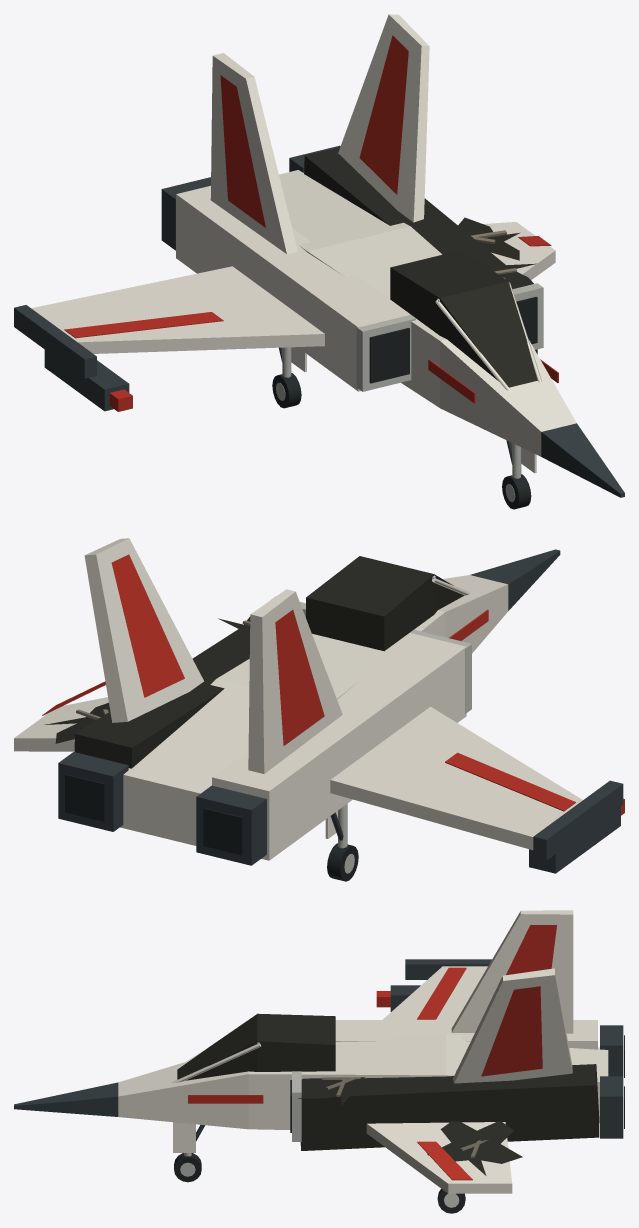
The picture shows the model from 3 angles, top to bottom: view 1: azimuth 30°, elevation 25°; view 2: azimuth 150°, elevation 25°; view 3: azimuth 270°, elevation 25°; orthographic projection. The views are drawn at different scales.
Parts seen in each view (by area): view 1: jet-b-damaged-fleet-armor, jet-b-damaged-fleet-damage-charred, jet-b-damaged-fleet-red, jet-b-damaged-fleet-machine, jet-b-damaged-fleet-rubber, jet-b-damaged-fleet-edge, gear-wheel-nose-0-0-fleet-rubber, gear-wheel-left-0-0-fleet-rubber; view 2: jet-b-damaged-fleet-armor, jet-b-damaged-fleet-damage-charred, jet-b-damaged-fleet-machine, jet-b-damaged-fleet-red, jet-b-damaged-fleet-rubber, gear-wheel-left-0-0-fleet-rubber, jet-b-damaged-fleet-edge; view 3: jet-b-damaged-fleet-armor, jet-b-damaged-fleet-damage-charred, jet-b-damaged-fleet-red, jet-b-damaged-fleet-machine, jet-b-damaged-fleet-edge, landing-gear-nose-fleet-armor, gear-wheel-nose-0-0-fleet-rubber, jet-b-damaged-fleet-damage-metal.
Part boxes in pixels (x1,y1,x2,y2): jet-b-damaged-fleet-armor: (31, 14, 576, 456); jet-b-damaged-fleet-damage-charred: (304, 147, 537, 387); jet-b-damaged-fleet-red: (64, 35, 558, 411); jet-b-damaged-fleet-machine: (14, 145, 624, 497); jet-b-damaged-fleet-rubber: (369, 296, 537, 383); jet-b-damaged-fleet-edge: (356, 283, 543, 391); gear-wheel-nose-0-0-fleet-rubber: (502, 474, 531, 509); gear-wheel-left-0-0-fleet-rubber: (272, 373, 301, 408); jet-b-damaged-fleet-armor: (14, 538, 582, 860); jet-b-damaged-fleet-damage-charred: (44, 556, 464, 768); jet-b-damaged-fleet-machine: (58, 549, 623, 873); jet-b-damaged-fleet-red: (42, 554, 624, 815); jet-b-damaged-fleet-rubber: (65, 774, 243, 855); gear-wheel-left-0-0-fleet-rubber: (327, 843, 358, 881); jet-b-damaged-fleet-edge: (271, 596, 471, 713); jet-b-damaged-fleet-armor: (118, 910, 608, 1193); jet-b-damaged-fleet-damage-charred: (177, 1013, 599, 1175); jet-b-damaged-fleet-red: (188, 925, 556, 1180); jet-b-damaged-fleet-machine: (14, 959, 623, 1138); jet-b-damaged-fleet-edge: (292, 1071, 301, 1141); landing-gear-nose-fleet-armor: (173, 1122, 195, 1152); gear-wheel-nose-0-0-fleet-rubber: (174, 1153, 201, 1182); jet-b-damaged-fleet-damage-metal: (322, 1077, 488, 1158).
Bounding box in the file's own units: 42.1 × 24.7 × 54.74.
